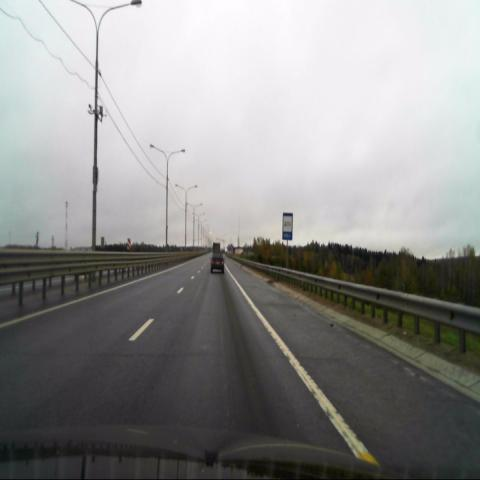7_12: (282, 212, 292, 240)
